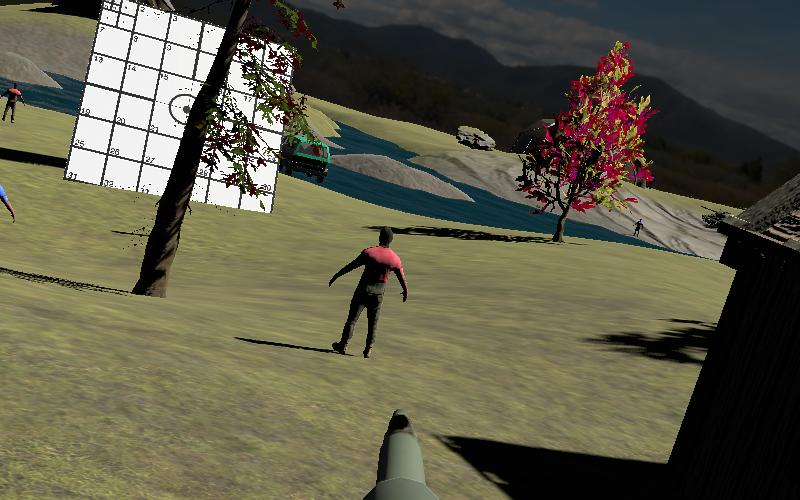Human: (326, 225, 409, 360), (0, 149, 24, 285), (0, 79, 28, 128)
car: (277, 133, 331, 183)
